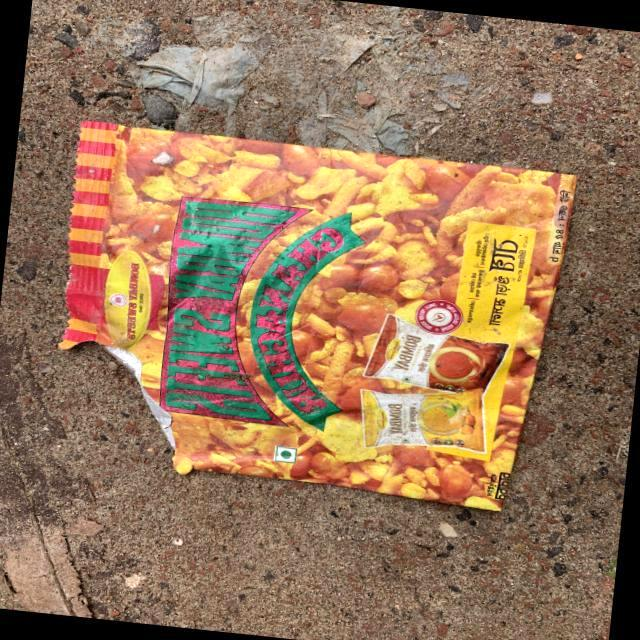packet: (46, 119, 579, 529)
